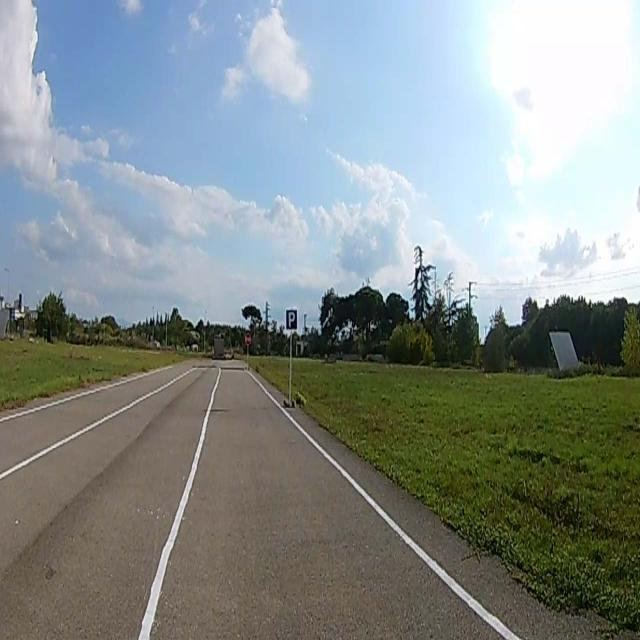park: (286, 309, 296, 330)
